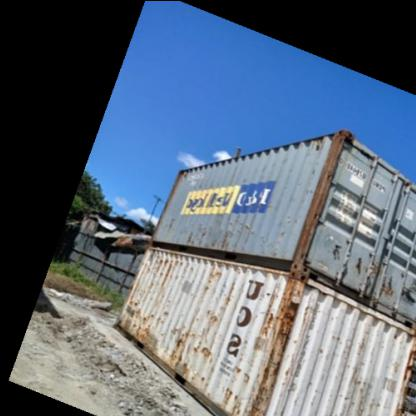Damage: (163, 329, 214, 382), (346, 334, 372, 416), (275, 280, 301, 354), (256, 357, 282, 415), (184, 226, 232, 252), (123, 300, 150, 336), (144, 255, 172, 289), (216, 381, 242, 415), (196, 271, 219, 294), (221, 278, 236, 310), (255, 308, 273, 334), (197, 304, 219, 324), (228, 362, 251, 380), (240, 216, 260, 236), (164, 214, 178, 231)
